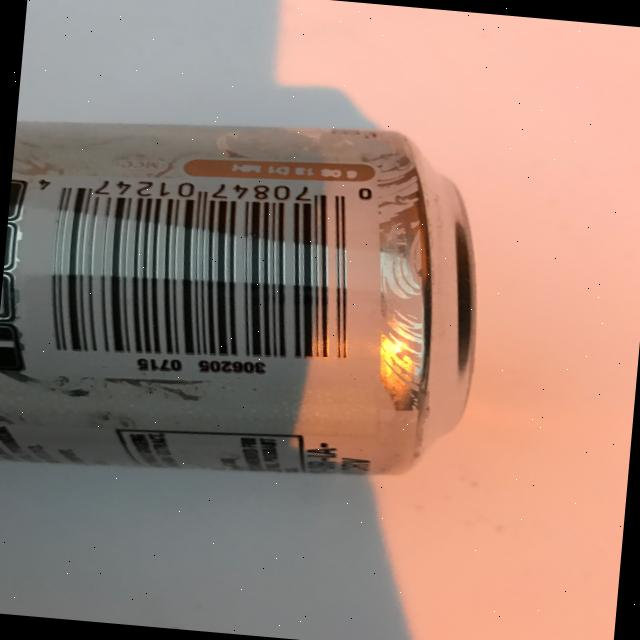metal: (0, 96, 494, 501)
